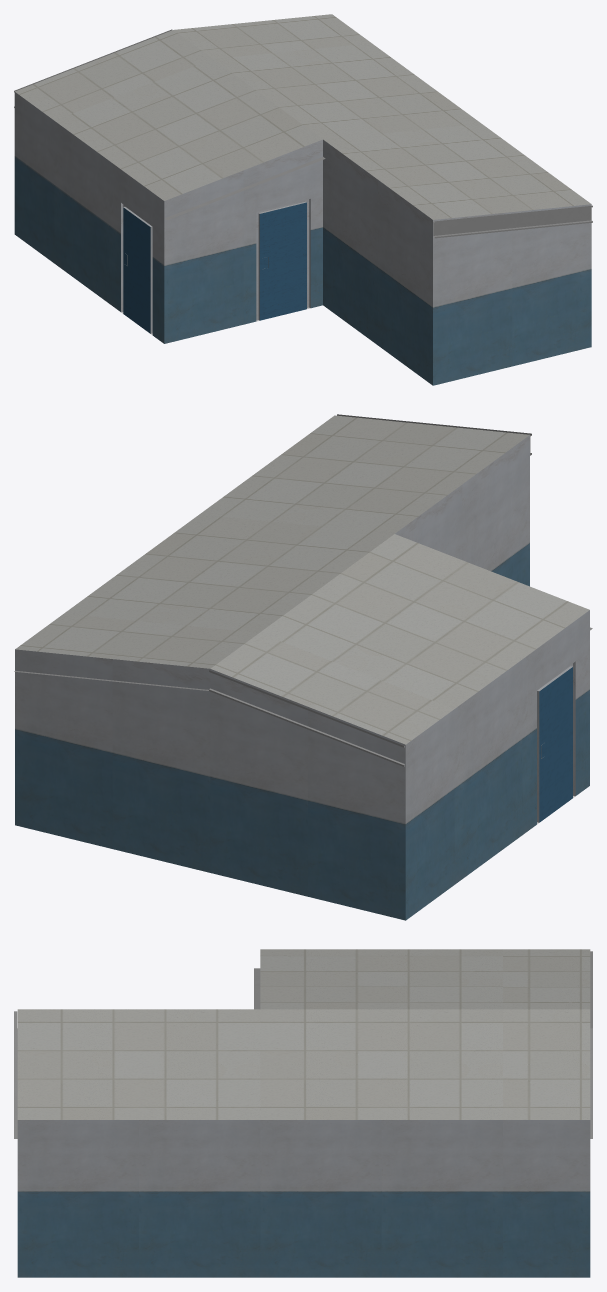
Rendered from ResearchStation001.fbx.
The picture shows the model from 3 angles, top to bottom: view 1: azimuth 30°, elevation 25°; view 2: azimuth 150°, elevation 25°; view 3: azimuth 270°, elevation 25°; orthographic projection. The views are drawn at different scales.
Parts seen in each view (by area): view 1: ResearchStation, ResearchStation_Ceiling, ResearchStation_Doors; view 2: ResearchStation, ResearchStation_Ceiling, ResearchStation_Doors; view 3: ResearchStation, ResearchStation_Ceiling.
Part boxes in pixels (x1,y1,x2,y2): ResearchStation: [14, 29, 592, 385]; ResearchStation_Ceiling: [15, 14, 591, 219]; ResearchStation_Doors: [121, 199, 310, 333]; ResearchStation: [14, 414, 592, 920]; ResearchStation_Ceiling: [15, 415, 589, 744]; ResearchStation_Doors: [537, 661, 575, 822]; ResearchStation: [14, 951, 592, 1277]; ResearchStation_Ceiling: [17, 949, 590, 1119].
Size of the model in its own units: 600 by 299 by 859.
